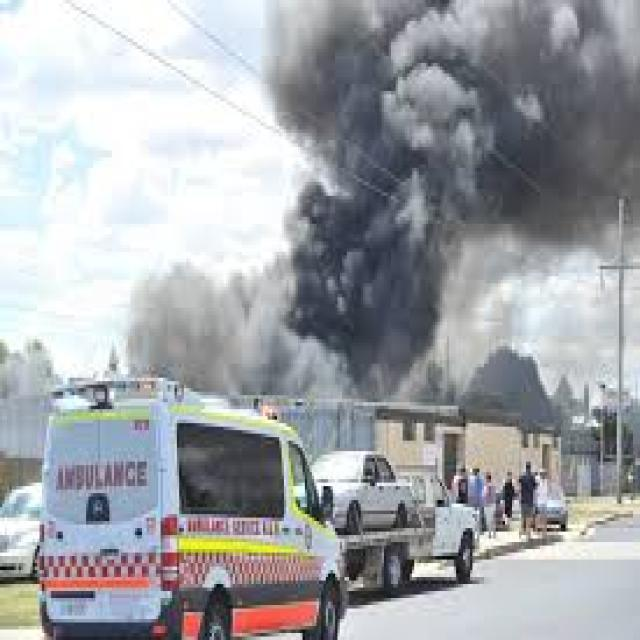Smoke: (125, 0, 638, 388)
